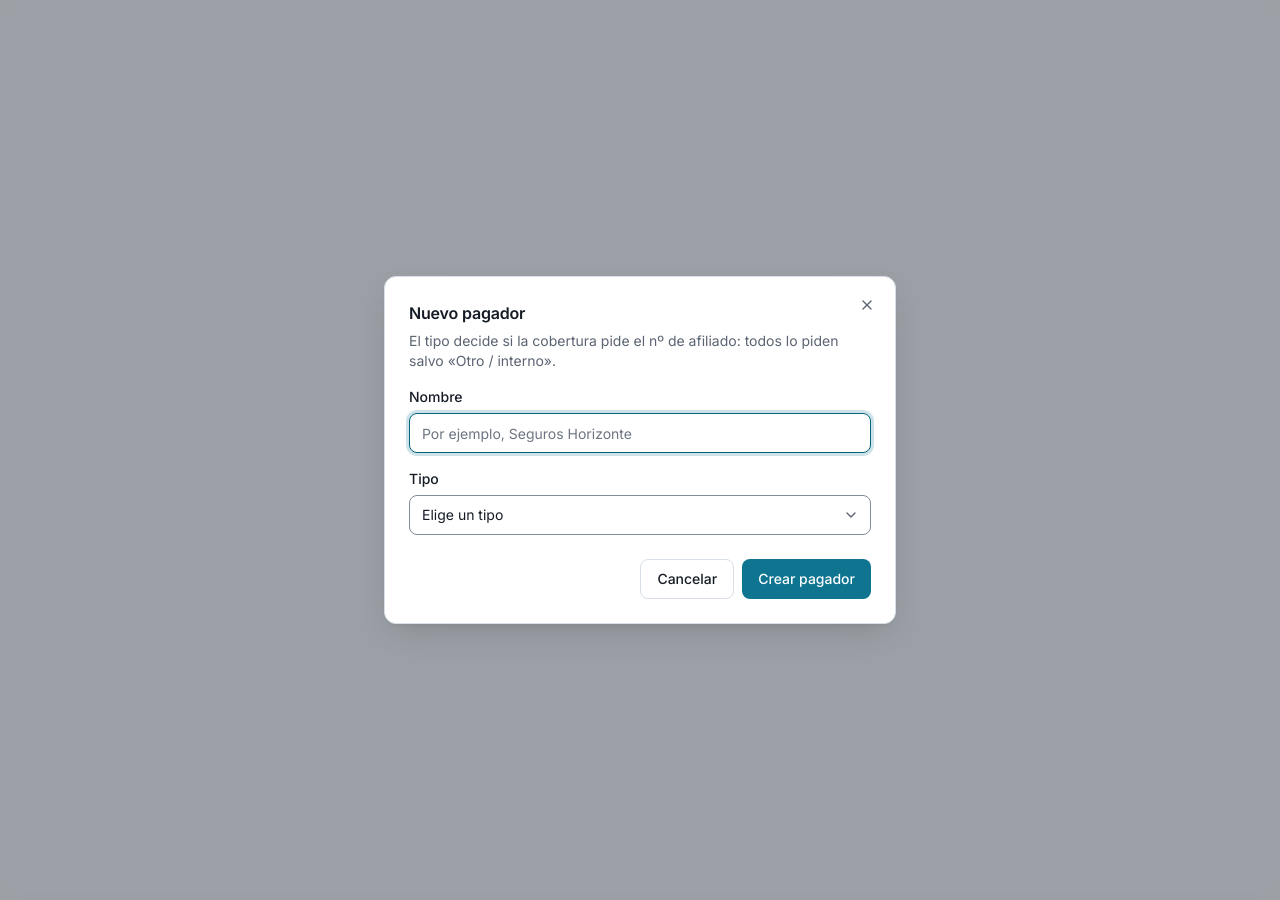
Test: PayerFormModal (DX-153) › muestra el mensaje de la API y deja el modal abierto
Select "Empresa" in the dropdown labelled "Tipo" at [640, 515], box [409,495,871,535]
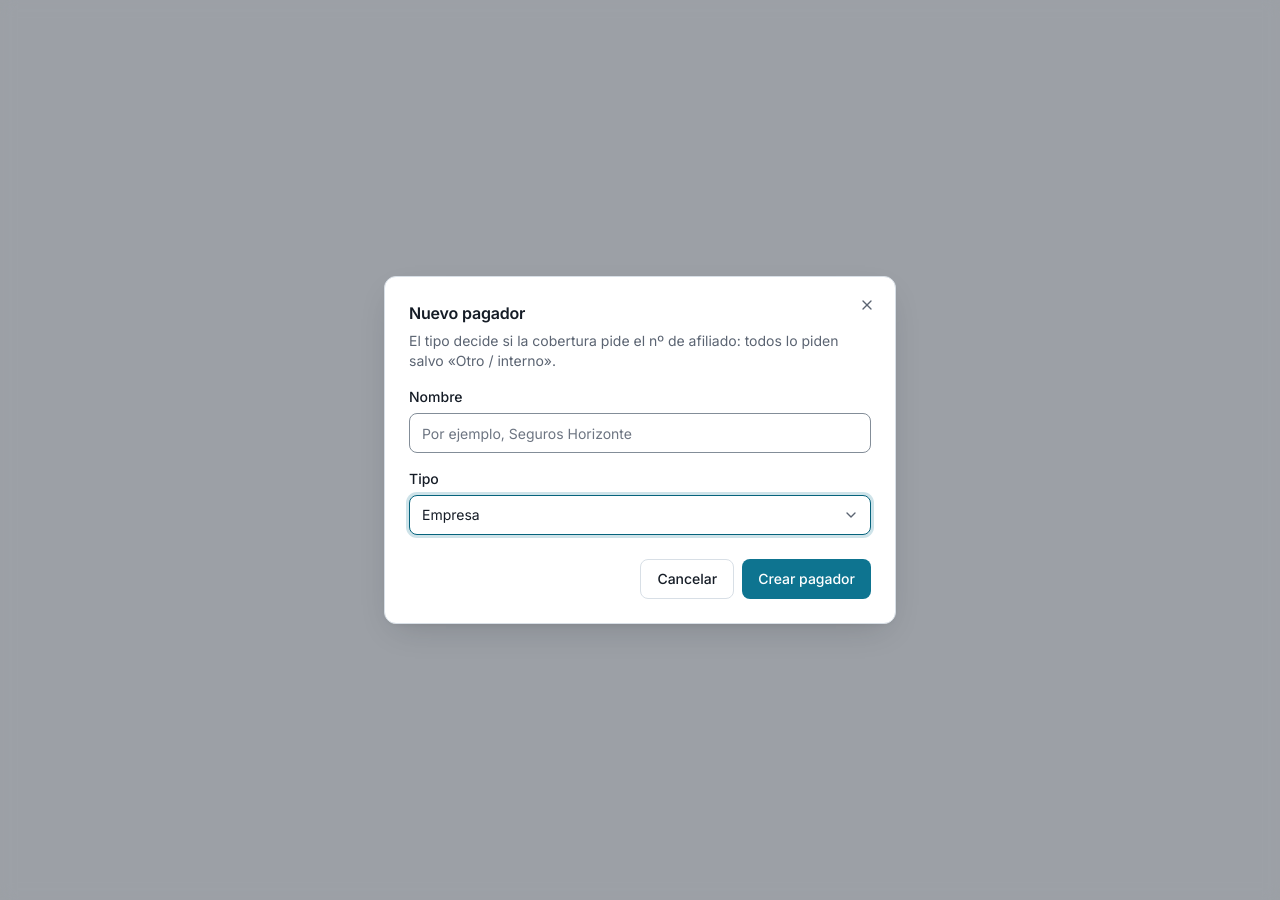
Type "Sanavida" into the field labelled "Nombre".
click(640, 433); type("Sanavida")  # box [409,413,871,453]
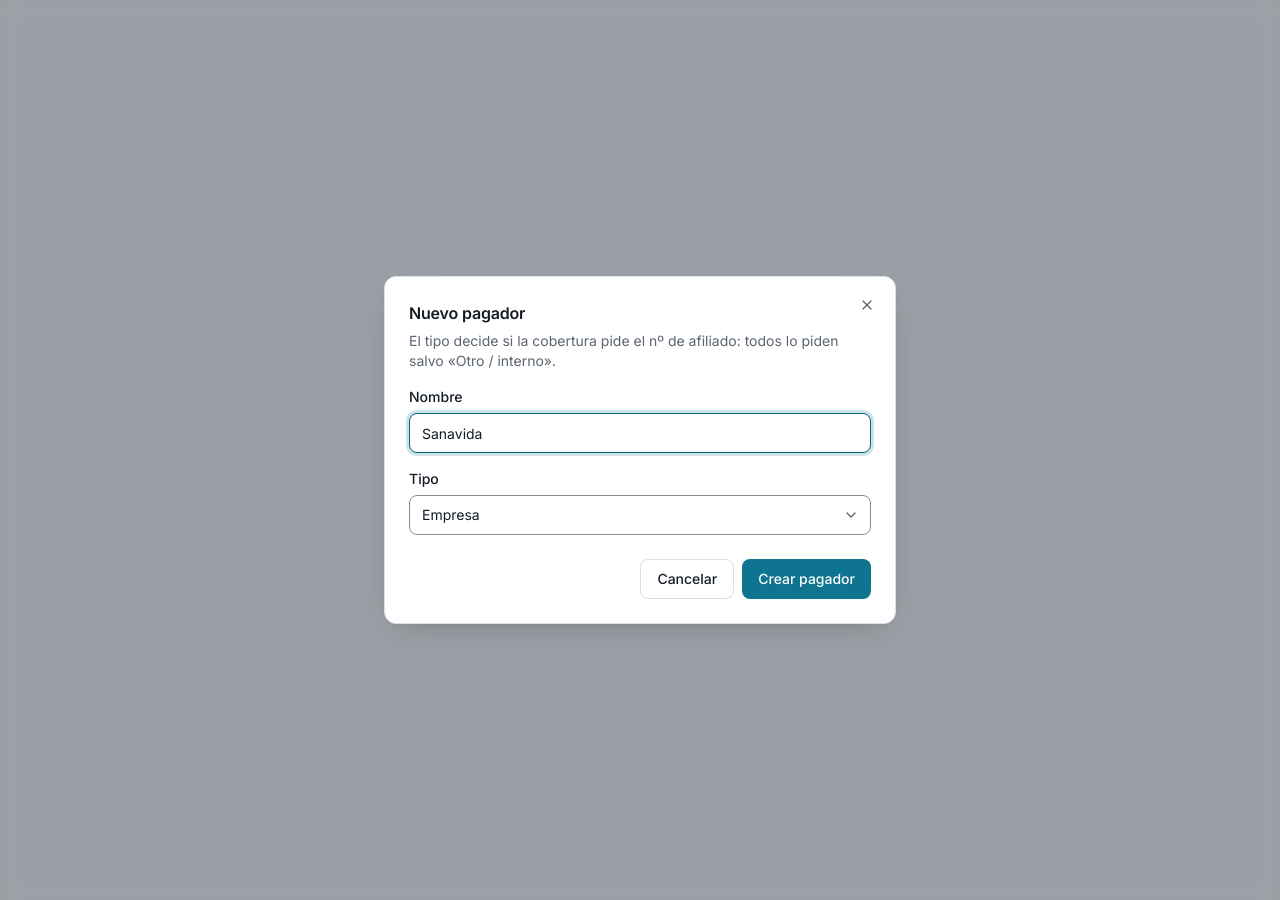
Click the button "Crear pagador".
click(807, 579)  # box [742,559,871,599]
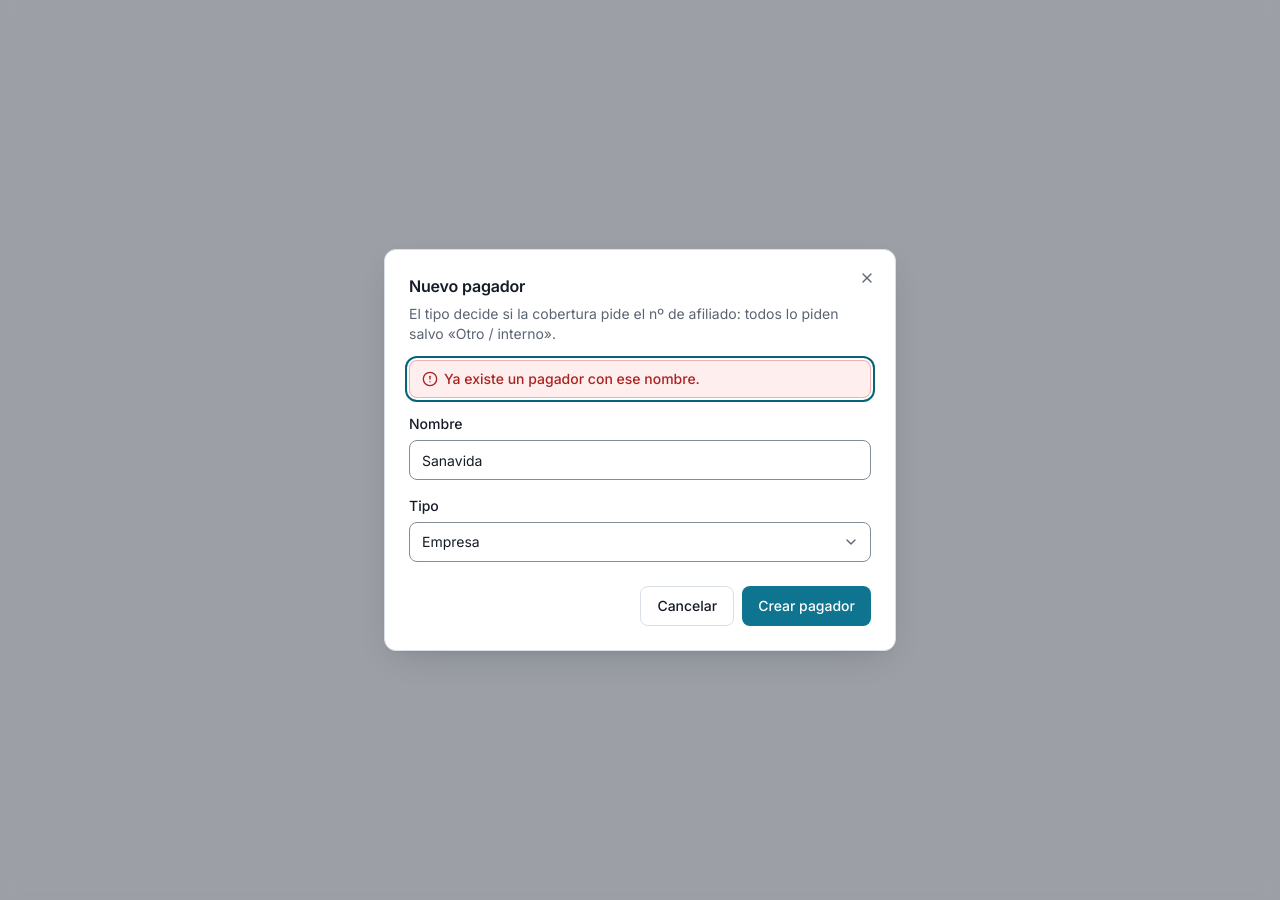
Expected: the text "Ya existe un pagador con ese nombre." is shown, [444,369,700,389]
